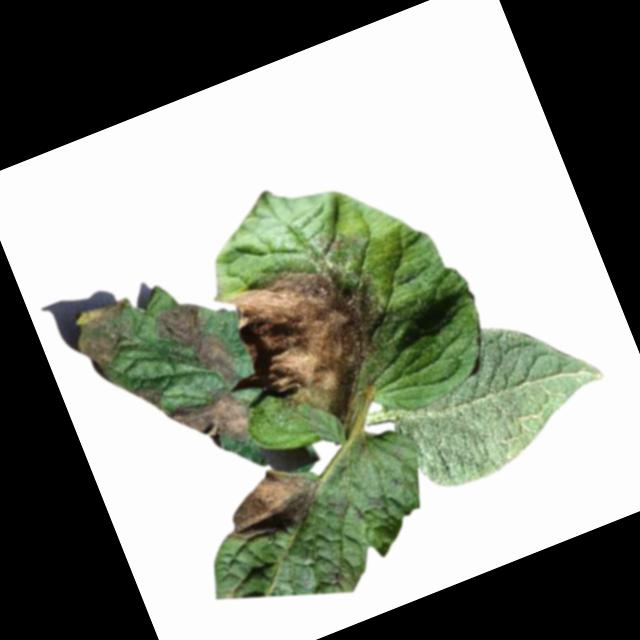Late_blight: (216, 240, 420, 463), (207, 457, 328, 552), (148, 290, 244, 405), (164, 380, 265, 465), (63, 293, 153, 381), (131, 379, 169, 418)
